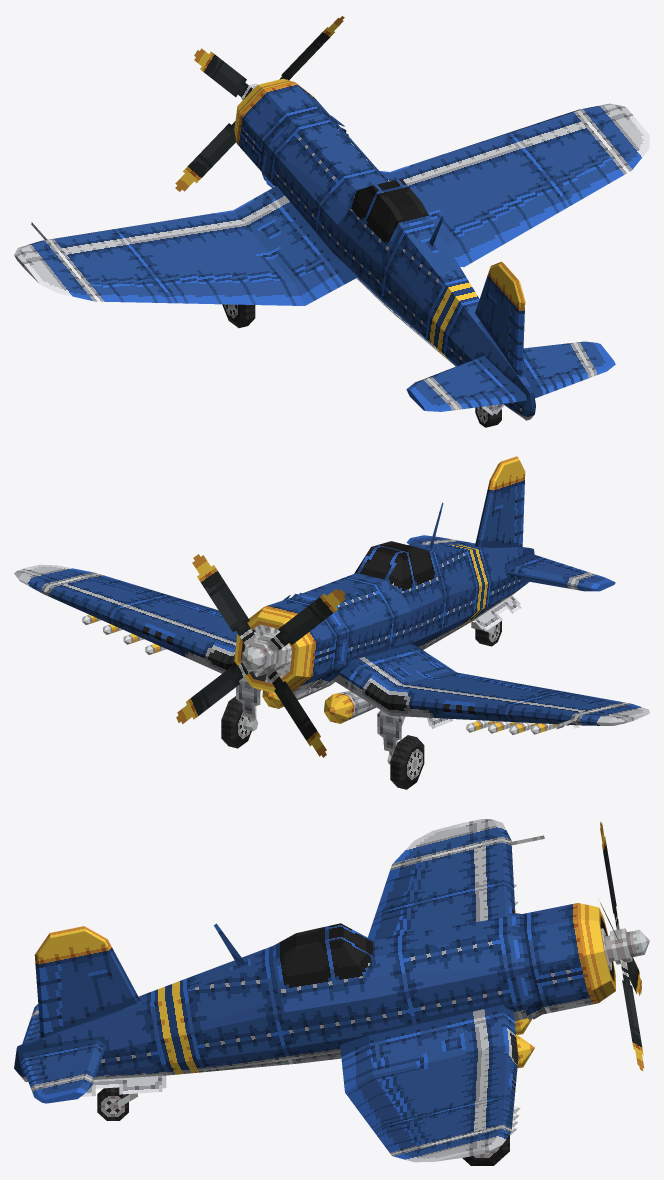
File: fighter_plane.glb
3 views of the same model, one above another, from view 1: azimuth 30°, elevation 25°; view 2: azimuth 150°, elevation 25°; view 3: azimuth 270°, elevation 25° (orthographic). The views are drawn at different scales.
Visible parts, largest first — view 1: wingLeft_67, cylinder_20, wingLeft_56, tube_37, cube_22, cube_21, cube_35, cylinder_24, plane_51, plane_47, plane_50, cylinder_7; view 2: cylinder_20, wingLeft_67, wingLeft_56, tube_37, cube_21, cylinder_24, cube_22, plane_50, plane_47, plane_49, cylinder_7, plane_51 (+6 smaller); view 3: cylinder_20, wingLeft_56, wingLeft_67, tube_37, cube_21, cylinder_24, cube_35, cone_48, cylinder_26, plane_49, cylinder_14, cylinder_1 (+1 smaller).
Boxes of the visible parts, box(x1,y1,x2,y2) form: wingLeft_67: box(14, 185, 357, 305); cylinder_20: box(260, 109, 535, 420); wingLeft_56: box(379, 103, 649, 267); tube_37: box(234, 78, 348, 187); cube_22: box(406, 356, 526, 411); cube_21: box(475, 261, 525, 375); cube_35: box(522, 341, 615, 398); cylinder_24: box(350, 178, 431, 255); plane_51: box(175, 121, 236, 191); plane_47: box(194, 48, 253, 98); plane_50: box(279, 16, 344, 80); cylinder_7: box(222, 304, 255, 327); cylinder_20: box(289, 544, 534, 687); wingLeft_67: box(332, 644, 649, 725); wingLeft_56: box(14, 564, 237, 673); tube_37: box(234, 592, 348, 693); cube_21: box(475, 456, 525, 547); cylinder_24: box(354, 541, 440, 593); cube_22: box(506, 554, 615, 591); plane_50: box(192, 554, 258, 647); plane_47: box(265, 589, 345, 653); plane_49: box(176, 663, 251, 724); cylinder_7: box(390, 735, 424, 789); plane_51: box(264, 664, 326, 757); cylinder_20: box(14, 913, 543, 1081); wingLeft_56: box(340, 1005, 518, 1162); wingLeft_67: box(368, 819, 515, 940); tube_37: box(507, 903, 615, 1020); cube_21: box(34, 926, 140, 1037); cylinder_24: box(273, 923, 372, 998); cube_35: box(19, 1039, 106, 1103); cone_48: box(605, 928, 649, 964); cylinder_26: box(81, 1075, 166, 1096); plane_49: box(620, 959, 644, 1071); cylinder_14: box(97, 1087, 128, 1120); cylinder_1: box(462, 1135, 509, 1165).
Bounding box in the file's own units: 12.42 × 4.59 × 10.07.
2 materials, 2 textured.
